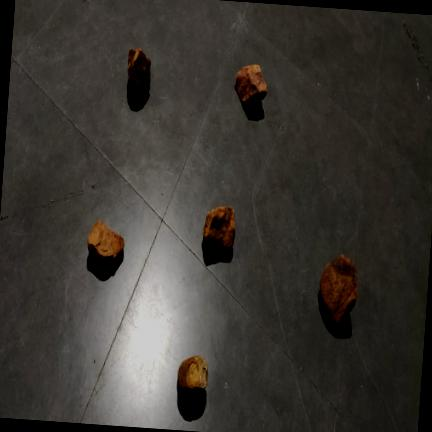Rocks: (319, 255, 356, 325), (87, 221, 123, 264), (202, 206, 234, 250), (235, 65, 266, 105), (127, 48, 149, 101), (177, 356, 207, 392)
